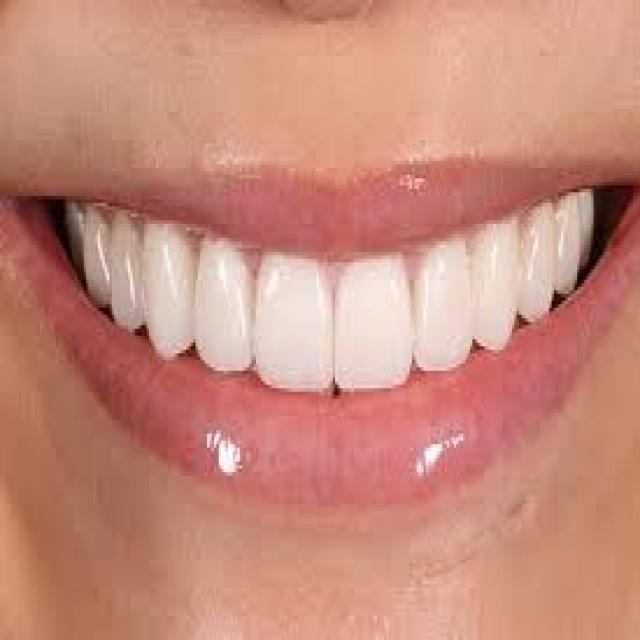tooth: (258, 245, 338, 395), (333, 252, 407, 381), (144, 217, 198, 353), (410, 238, 468, 360), (198, 238, 247, 371), (474, 224, 510, 343), (112, 220, 144, 322), (521, 206, 547, 308), (86, 206, 112, 294), (556, 196, 577, 287)
